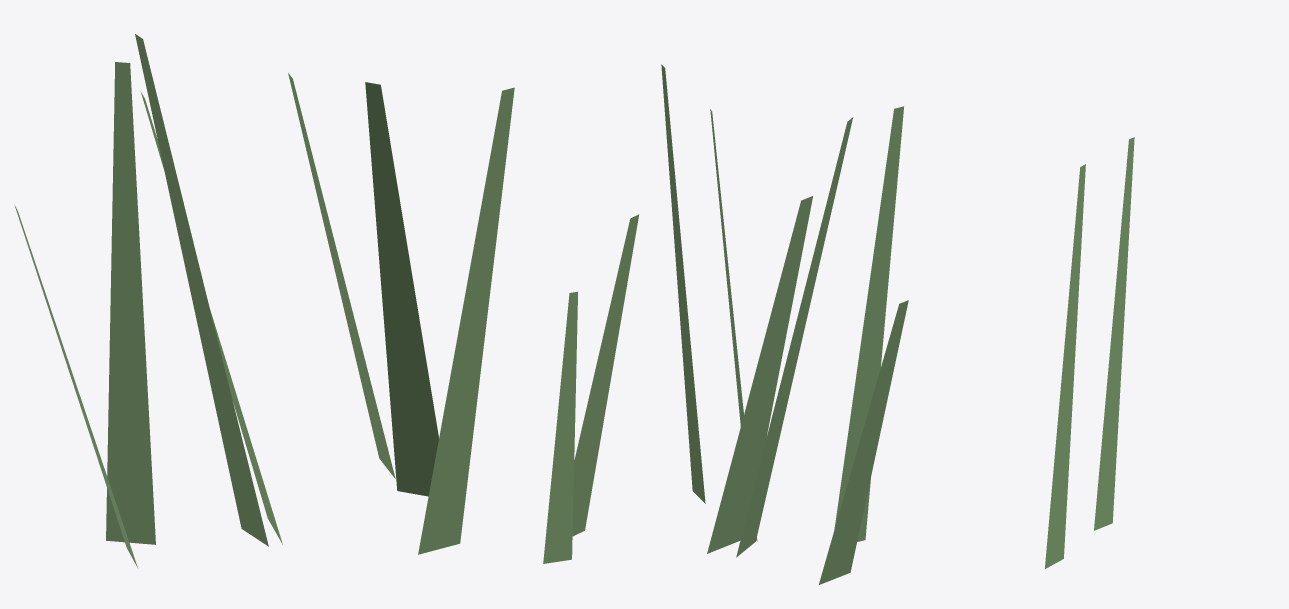
The model's file is veg_grass_green_02.glb.
3 renders of one model, left to right at view 1: azimuth 30°, elevation 25°; view 2: azimuth 150°, elevation 25°; view 3: azimuth 270°, elevation 25°, orthographic. The views are drawn at different scales.
Parts seen in each view (by area): view 1: blade_04, blade_03, blade_02, blade_01, blade_08, blade_05, blade_00; view 2: blade_05, blade_09, blade_00, blade_08, blade_07, blade_01, blade_06, blade_10; view 3: blade_06, blade_10.
Boxes of the visible parts, left/top/right/bottom form: blade_04: left=106, top=62, right=155, bottom=544; blade_03: left=365, top=82, right=438, bottom=496; blade_02: left=418, top=87, right=514, bottom=554; blade_01: left=135, top=34, right=268, bottom=546; blade_08: left=288, top=73, right=395, bottom=478; blade_05: left=140, top=91, right=282, bottom=544; blade_00: left=14, top=205, right=137, bottom=567; blade_05: left=707, top=196, right=812, bottom=553; blade_09: left=834, top=106, right=903, bottom=541; blade_00: left=819, top=300, right=908, bottom=584; blade_08: left=572, top=214, right=639, bottom=536; blade_07: left=543, top=291, right=577, bottom=563; blade_01: left=736, top=117, right=853, bottom=557; blade_06: left=661, top=64, right=705, bottom=503; blade_10: left=710, top=109, right=757, bottom=541; blade_06: left=1045, top=164, right=1085, bottom=568; blade_10: left=1094, top=137, right=1134, bottom=530.
Bounding box in the file's own units: 0.7622 × 1.02 × 0.7056.
